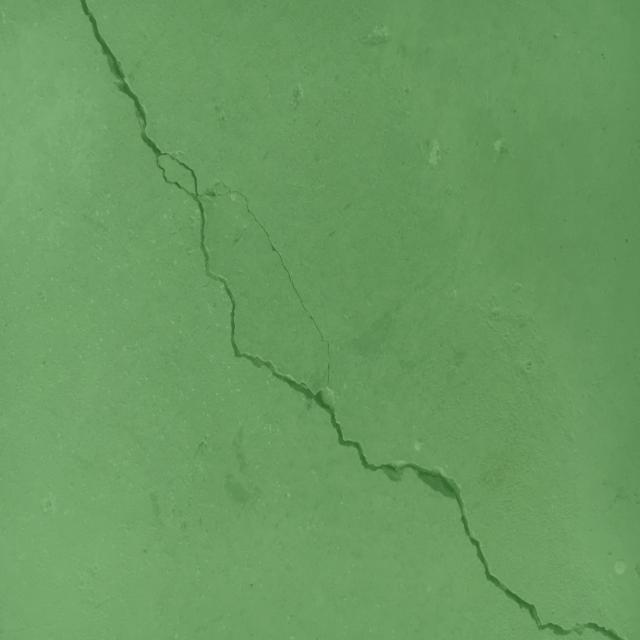crack: (78, 0, 624, 640)
